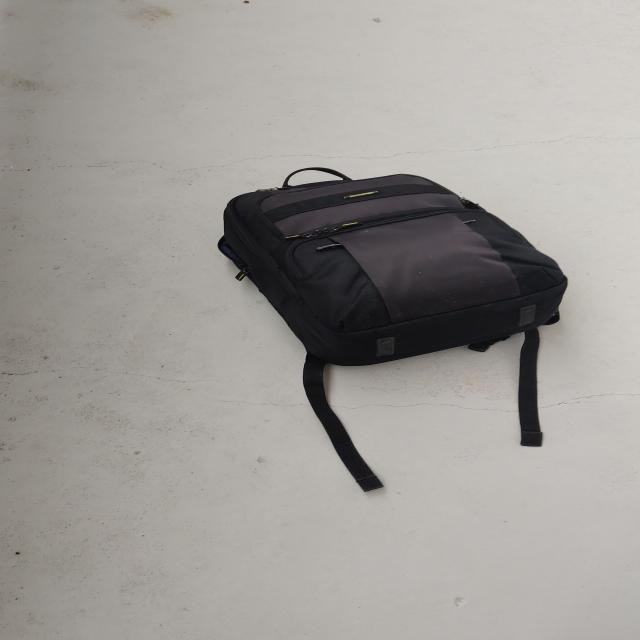backpack: (204, 163, 576, 376)
